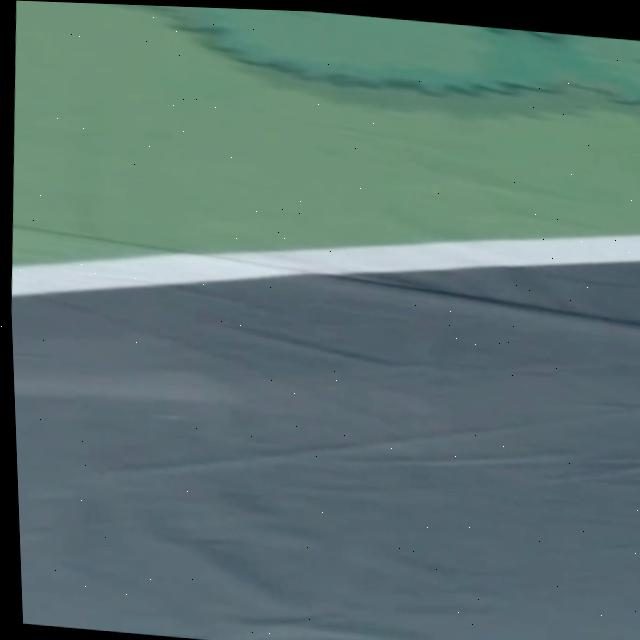right: (12, 236, 640, 296)
